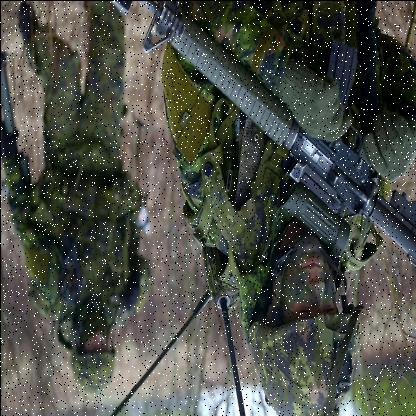rifle: (116, 0, 414, 271)
